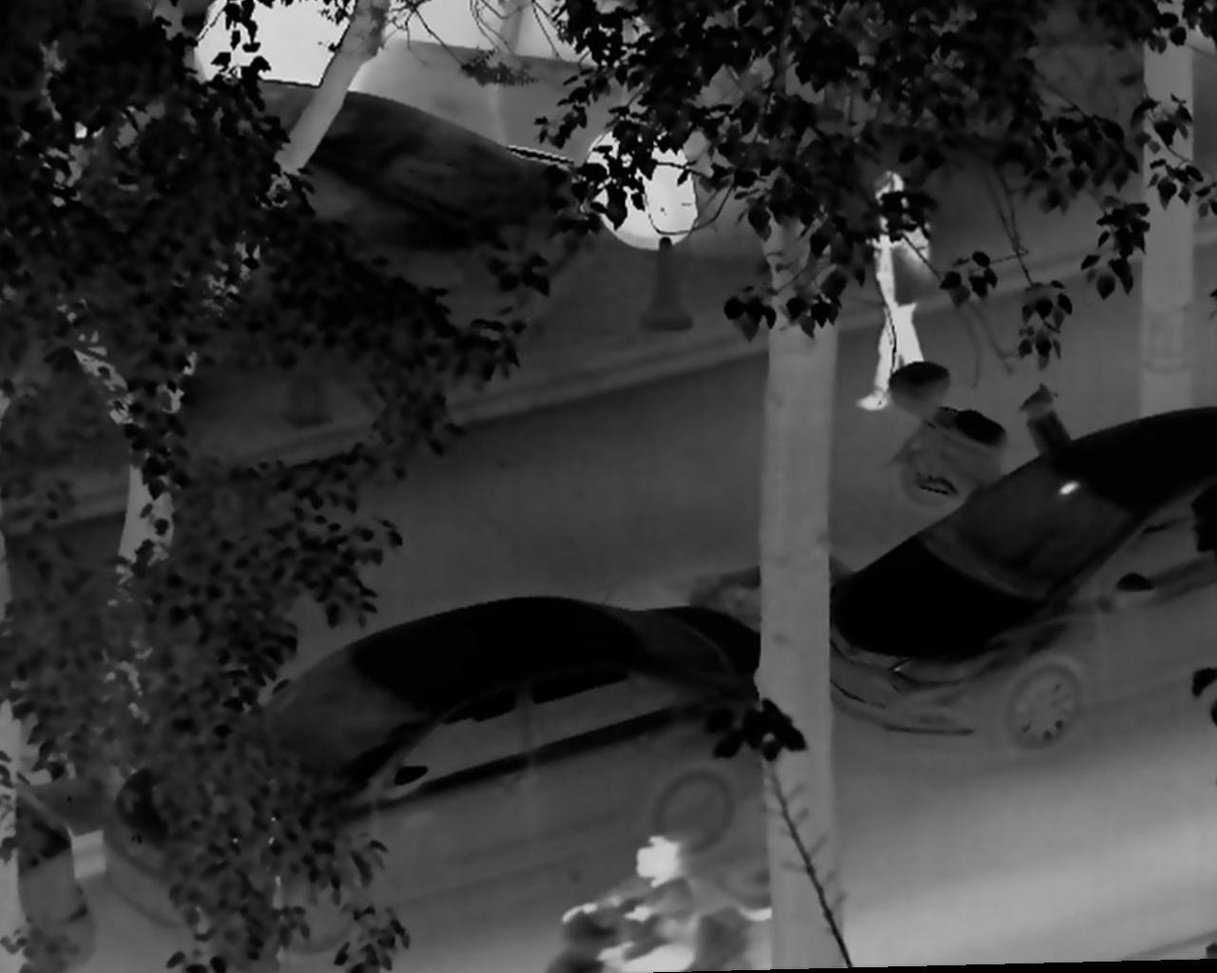person: (559, 830, 696, 973), (851, 171, 929, 414)
